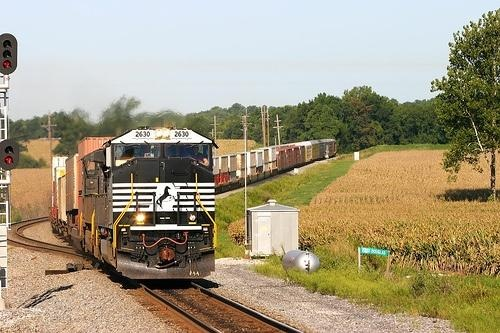train: (48, 127, 337, 284)
